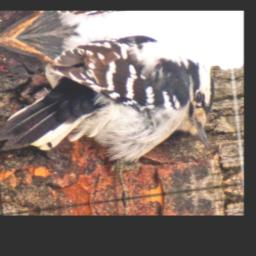Woodpecker: (0, 16, 228, 213)
